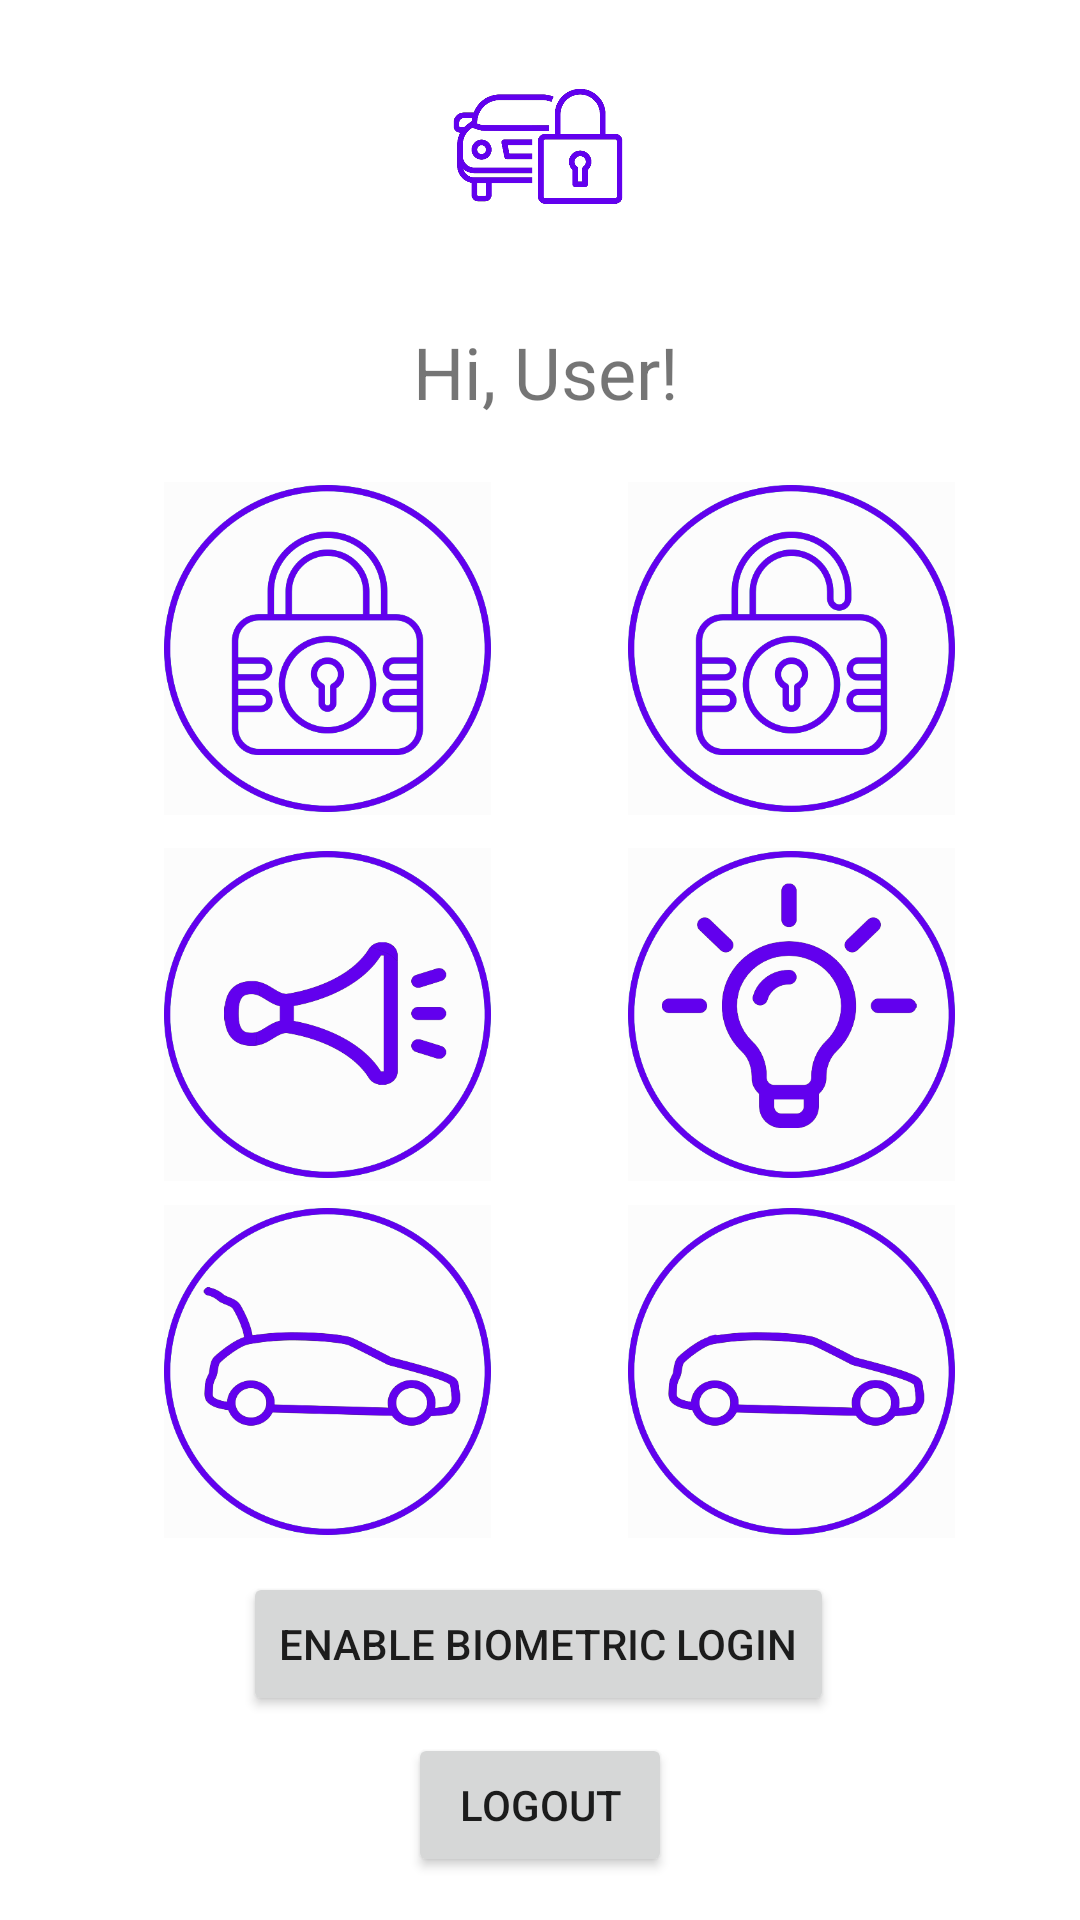

Icon bounding boxes for this 1080 × 1920 phone screenshot, format bbox=[x1, y1, x2, y2]:
carsec: bbox=[453, 89, 623, 204]
horn: bbox=[164, 851, 491, 1178]
lights: bbox=[628, 851, 955, 1178]
lock: bbox=[164, 485, 491, 812]
trunk: bbox=[164, 1208, 491, 1535]
trunkclose: bbox=[628, 1208, 955, 1535]
unlock: bbox=[628, 485, 955, 812]
